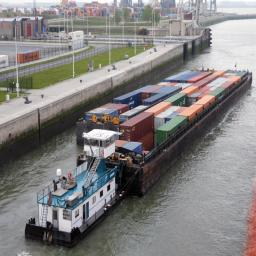tugboat: (24, 128, 132, 251)
